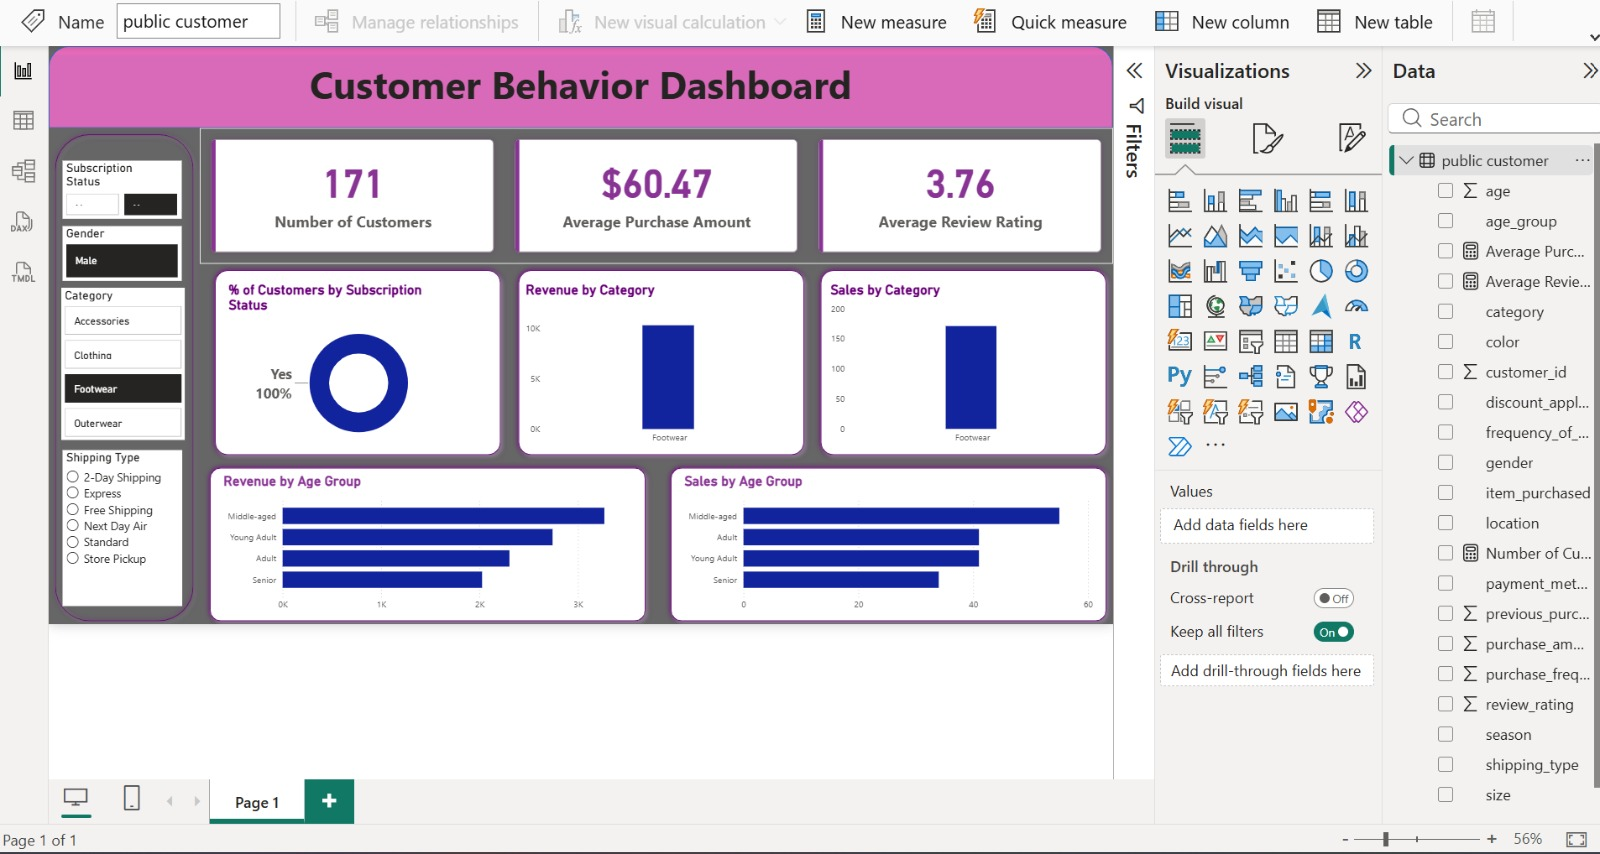

The page's visual inventory and layout, read from the dashboard file:
{"tool":"powerbi","page":{"name":"Page 1","canvas":[1500,815],"ordinal":0},"visuals":[{"type":"cardVisual","fields":{"Data":["public customer.Number of Customers","public customer.Average Purchase Amount","public customer.Average Review Rating"]},"box":[212.9,115.3,1286.5,191.6],"z":2000},{"type":"shape","box":[218.3,585.6,631.7,234.2],"z":2500,"group":"g1"},{"type":"shape","box":[0,0,1499.4,115.3],"z":3000},{"type":"textbox","box":[0,12.4,1499.4,102.9],"z":4000},{"type":"shape","box":[225.4,307,420.5,278.6],"z":5000},{"type":"donutChart","title":"% of Customers by Subscription Status","fields":{"Category":["public customer.subscription_status"],"Y":["CountNonNull(public customer.customer_id)"]},"box":[248.4,331.8,376.2,237.8],"z":6000},{"type":"shape","box":[1078.9,307,420.5,278.6],"z":7000},{"type":"shape","box":[652.1,307,420.5,278.6],"z":8000},{"type":"clusteredColumnChart","title":"Revenue by Category","fields":{"Category":["public customer.category"],"Y":["Sum(public customer.purchase_amount)"]},"box":[667.2,331.8,385.1,237.8],"z":9000},{"type":"clusteredColumnChart","title":"Sales by Category","fields":{"Category":["public customer.category"],"Y":["CountNonNull(public customer.customer_id)"]},"box":[1097,331.4,379.8,237.6],"z":10000},{"type":"shape","box":[0,115.3,212.9,704.5],"z":11000},{"type":"advancedSlicerVisual","fields":{"Values":["public customer.subscription_status"]},"box":[19.7,161.9,168,81.7],"z":12000},{"type":"advancedSlicerVisual","fields":{"Values":["public customer.gender"]},"box":[19.7,254.2,168,77.2],"z":13000},{"type":"advancedSlicerVisual","fields":{"Values":["public customer.category"]},"box":[18.2,340.5,174,214.9],"z":14000},{"type":"listSlicer","fields":{"Values":["public customer.shipping_type"]},"box":[19.7,570.4,168.6,220],"z":15000},{"type":"shape","box":[867.7,585.6,631.7,234.2],"z":16000},{"type":"clusteredBarChart","title":"Sales by Age Group","fields":{"Category":["public customer.age_group"],"Y":["CountNonNull(public customer.customer_id)"]},"box":[890.8,601.5,585.6,204.1],"z":17000},{"type":"clusteredBarChart","title":"Revenue by Age Group","fields":{"Category":["public customer.age_group"],"Y":["Sum(public customer.purchase_amount)"]},"box":[241.4,601.6,585.6,204.1],"z":17500,"group":"g1"},{"type":"group","id":"g1","title":"Group 1","box":[218.3,585.6,631.7,234.2],"z":17501}]}

Visuals, with their boxes on the page's 1500x815 design canvas (x1, y1, x2, y2). These are canvas units, not pixel positions in the 1600x854 screenshot, which may show the page scaled, cropped or inside an application window:
cardVisual - public customer.Number of Customers x public customer.Average Purchase Amount: Rect(213, 115, 1499, 307)
shape: Rect(218, 586, 850, 820)
shape: Rect(0, 0, 1499, 115)
textbox: Rect(0, 12, 1499, 115)
shape: Rect(225, 307, 646, 586)
"% of Customers by Subscription Status" donutChart: Rect(248, 332, 625, 570)
shape: Rect(1079, 307, 1499, 586)
shape: Rect(652, 307, 1073, 586)
"Revenue by Category" clusteredColumnChart: Rect(667, 332, 1052, 570)
"Sales by Category" clusteredColumnChart: Rect(1097, 331, 1477, 569)
shape: Rect(0, 115, 213, 820)
advancedSlicerVisual - public customer.subscription_status: Rect(20, 162, 188, 244)
advancedSlicerVisual - public customer.gender: Rect(20, 254, 188, 331)
advancedSlicerVisual - public customer.category: Rect(18, 340, 192, 555)
listSlicer - public customer.shipping_type: Rect(20, 570, 188, 790)
shape: Rect(868, 586, 1499, 820)
"Sales by Age Group" clusteredBarChart: Rect(891, 602, 1476, 806)
"Revenue by Age Group" clusteredBarChart: Rect(241, 602, 827, 806)
"Group 1" group: Rect(218, 586, 850, 820)
